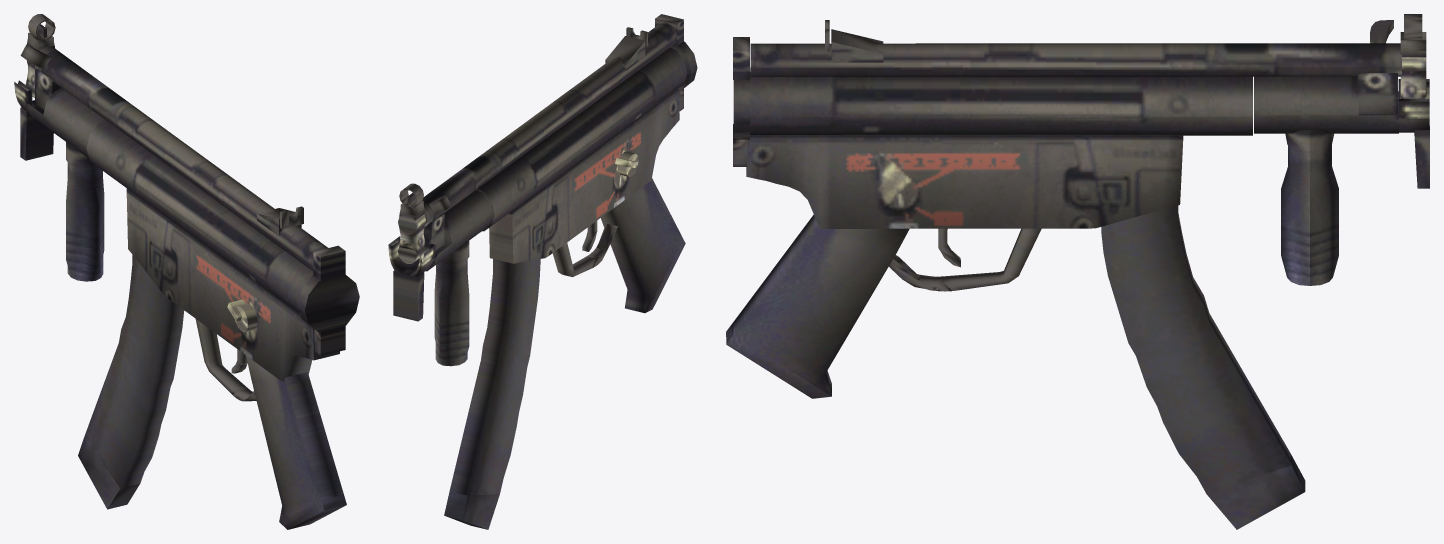
File: mp5k_world.fbx
The picture shows the model from 3 angles, left to right: view 1: azimuth 30°, elevation 25°; view 2: azimuth 150°, elevation 25°; view 3: azimuth 270°, elevation 25°; orthographic projection. The views are drawn at different scales.
Visible parts, largest first — view 1: mp5k_body, 9mm_clip, mp5k_grip, pistol_grip_mp5k, mp5kRear, mp5k_guard, mp5k_selecter, support_sight, sight_ring, mp5kBolt; view 2: mp5k_body, 9mm_clip, mp5k_grip, pistol_grip_mp5k, mp5k_guard, mp5k_barrel, mp5kRear, support_sight, mp5k_selecter, mp5k_sight, sight_ring; view 3: mp5k_body, 9mm_clip, mp5k_grip, pistol_grip_mp5k, mp5k_guard, mp5kRear, support_sight, mp5k_barrel.
Boxes of the visible parts, left/top/right/bottom form: mp5k_body: left=34, top=46, right=339, bottom=381; 9mm_clip: left=78, top=255, right=184, bottom=509; mp5k_grip: left=14, top=69, right=105, bottom=281; pistol_grip_mp5k: left=246, top=355, right=346, bottom=529; mp5kRear: left=297, top=245, right=359, bottom=355; mp5k_guard: left=195, top=319, right=256, bottom=401; mp5k_selecter: left=227, top=299, right=257, bottom=332; support_sight: left=257, top=208, right=301, bottom=236; sight_ring: left=28, top=14, right=55, bottom=40; mp5kBolt: left=20, top=44, right=50, bottom=69; mp5k_body: left=412, top=22, right=687, bottom=263; 9mm_clip: left=444, top=259, right=540, bottom=529; mp5k_grip: left=388, top=189, right=492, bottom=366; pistol_grip_mp5k: left=601, top=178, right=685, bottom=313; mp5k_guard: left=552, top=222, right=617, bottom=276; mp5k_barrel: left=398, top=207, right=425, bottom=263; mp5kRear: left=655, top=14, right=697, bottom=111; support_sight: left=605, top=36, right=645, bottom=70; mp5k_selecter: left=615, top=151, right=638, bottom=176; mp5k_sight: left=399, top=193, right=424, bottom=220; sight_ring: left=399, top=183, right=423, bottom=207; mp5k_body: left=746, top=43, right=1401, bottom=228; 9mm_clip: left=1101, top=205, right=1305, bottom=529; mp5k_grip: left=1254, top=73, right=1429, bottom=285; pistol_grip_mp5k: left=726, top=214, right=909, bottom=398; mp5k_guard: left=889, top=228, right=1041, bottom=291; mp5kRear: left=733, top=37, right=750, bottom=166; support_sight: left=831, top=29, right=883, bottom=62; mp5k_barrel: left=1400, top=57, right=1426, bottom=98.
Size of the model in its own units: 1.42 by 10.32 by 12.94.
Materials: 1 (1 with a texture image).
